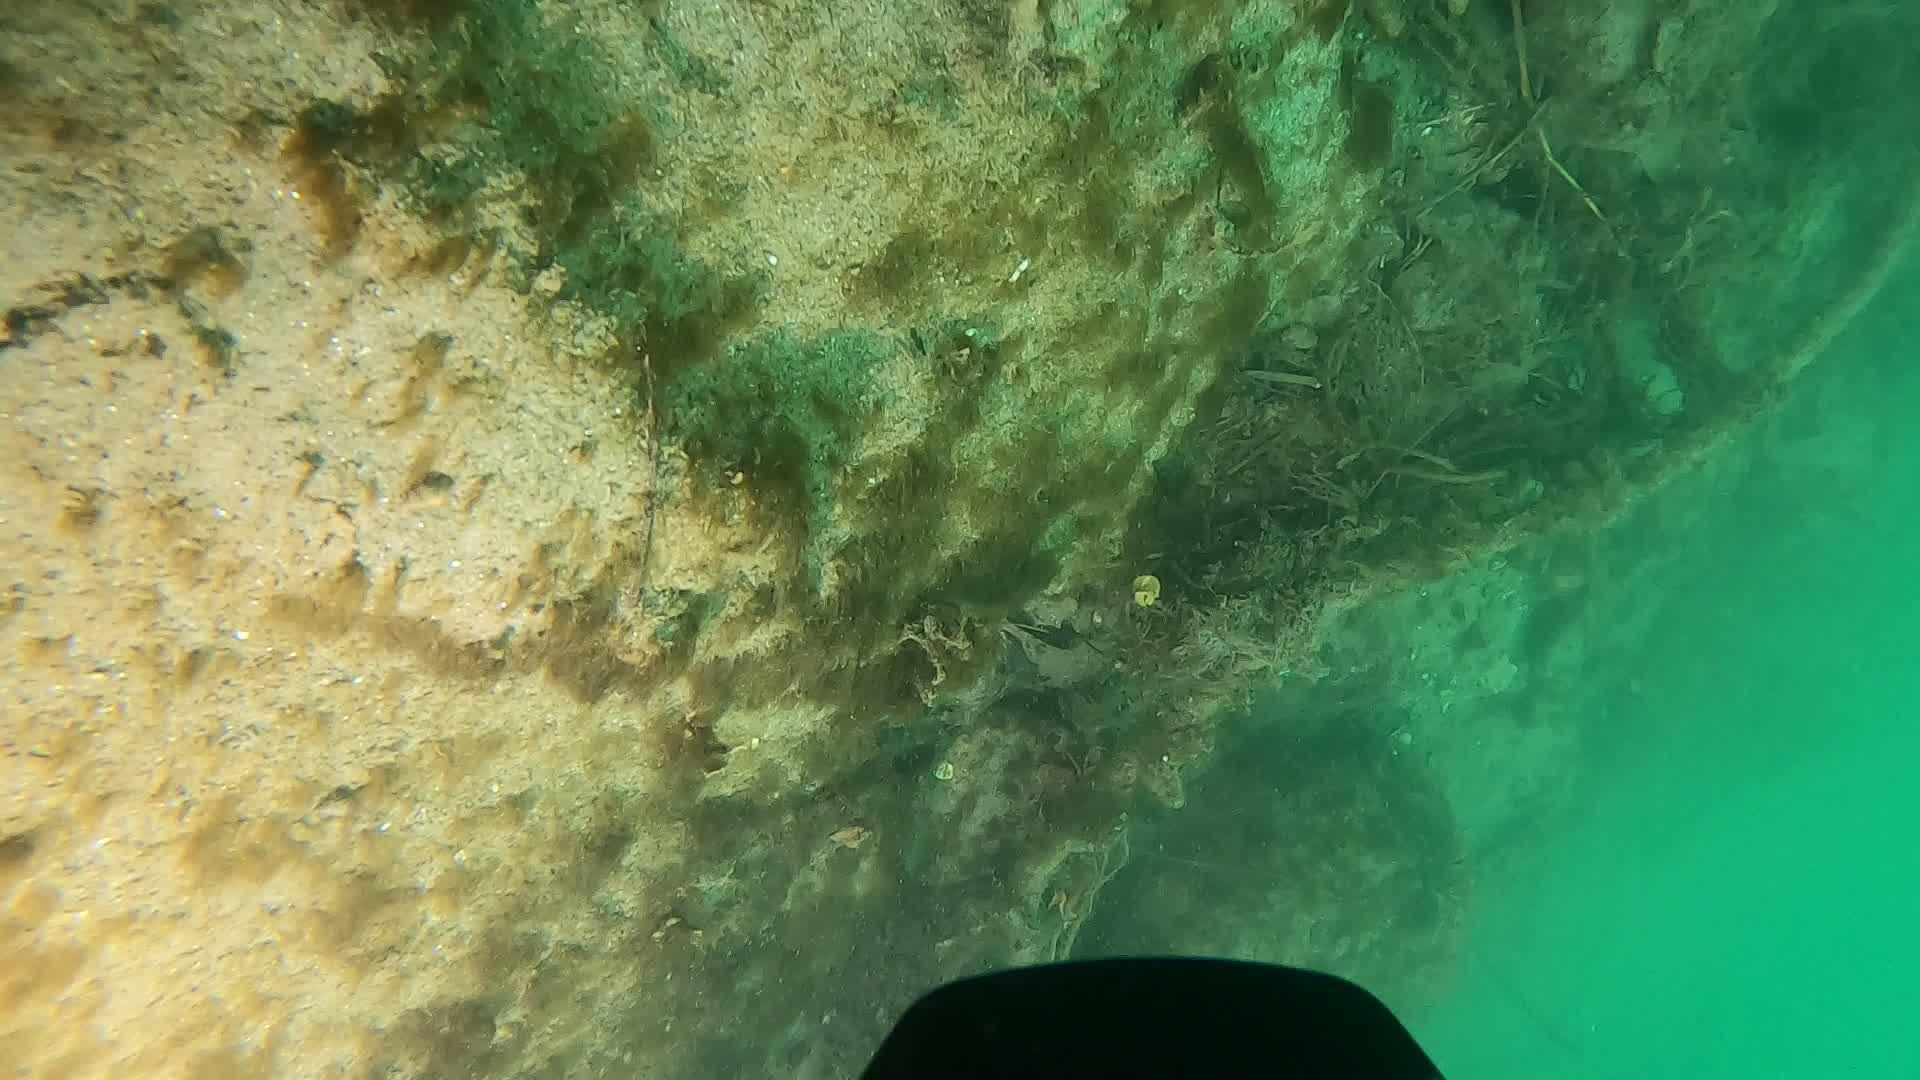rope: (963, 198, 1920, 953)
